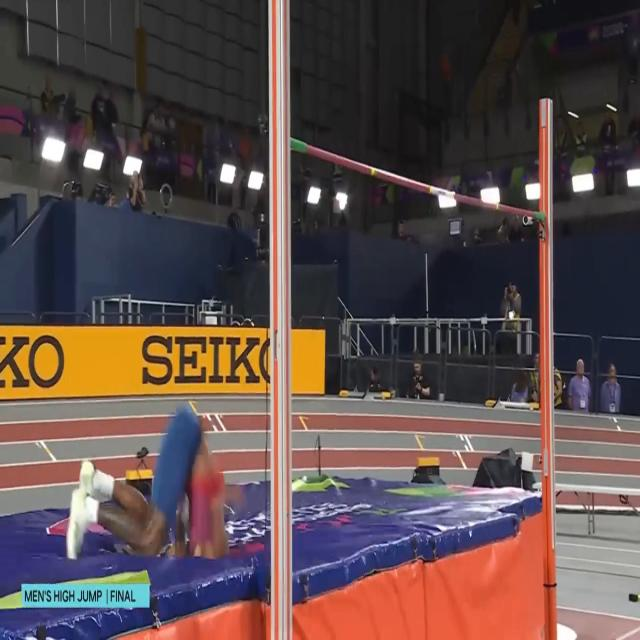land: (66, 399, 230, 563)
